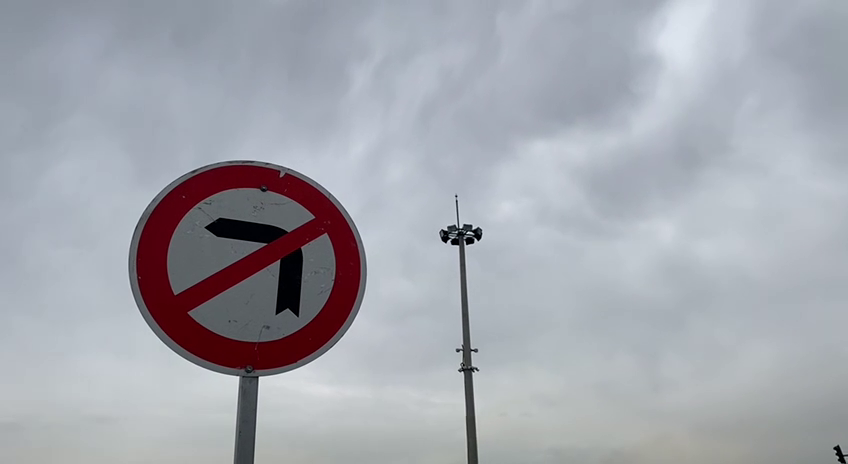noTurnLeft: (123, 156, 370, 382)
